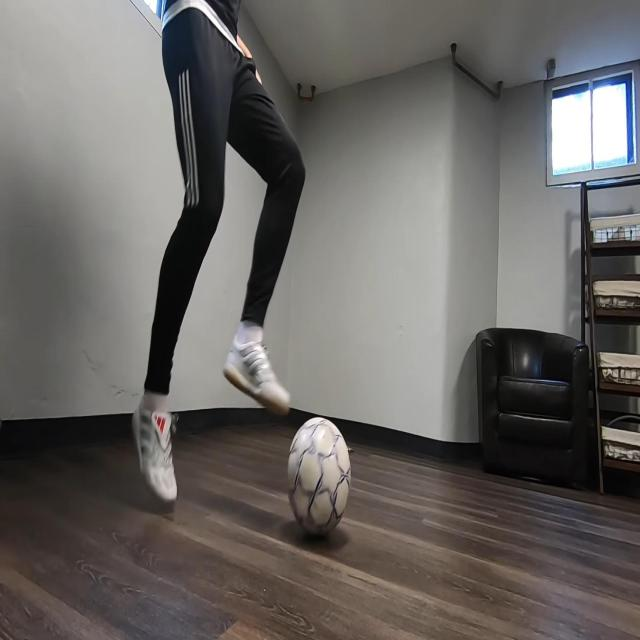Soccer Ball: (286, 417, 352, 538)
